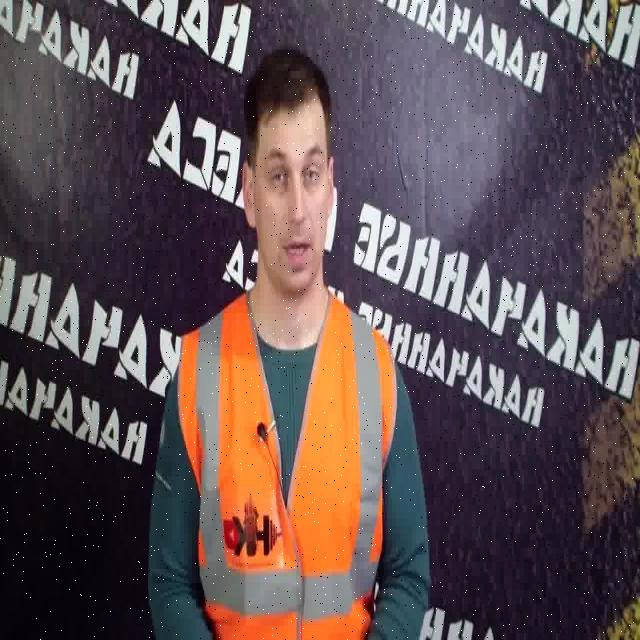Vest: (183, 311, 399, 631)
